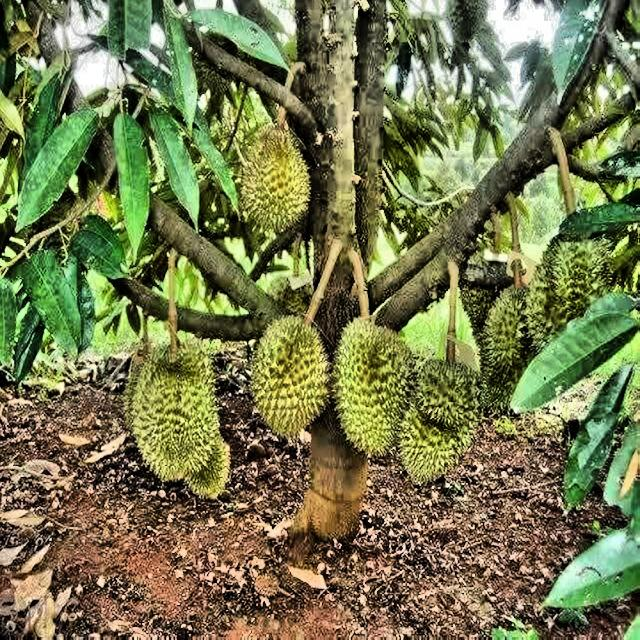arvore: (274, 0, 386, 577)
